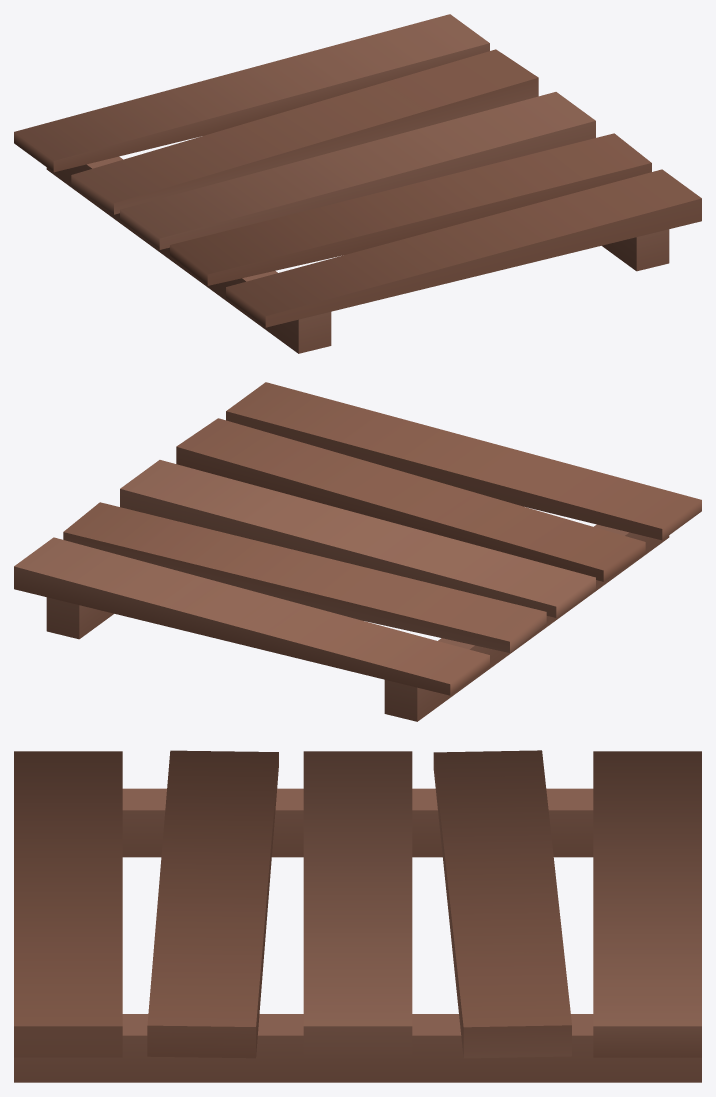
Rendered from template-floor-layer.glb.
3 views of the same model, one above another, from view 1: azimuth 30°, elevation 25°; view 2: azimuth 150°, elevation 25°; view 3: azimuth 270°, elevation 25° (orthographic). The views are drawn at different scales.
Visible parts, largest first — view 1: template-floor-layer; view 2: template-floor-layer; view 3: template-floor-layer.
Boxes of the visible parts, x1=… form: template-floor-layer: x1=14, y1=14, x2=701, y2=353; template-floor-layer: x1=14, y1=382, x2=701, y2=721; template-floor-layer: x1=14, y1=750, x2=701, y2=1082.
Size of the model in its own units: 4.02 by 0.5 by 4.
1 material, 1 textured.
